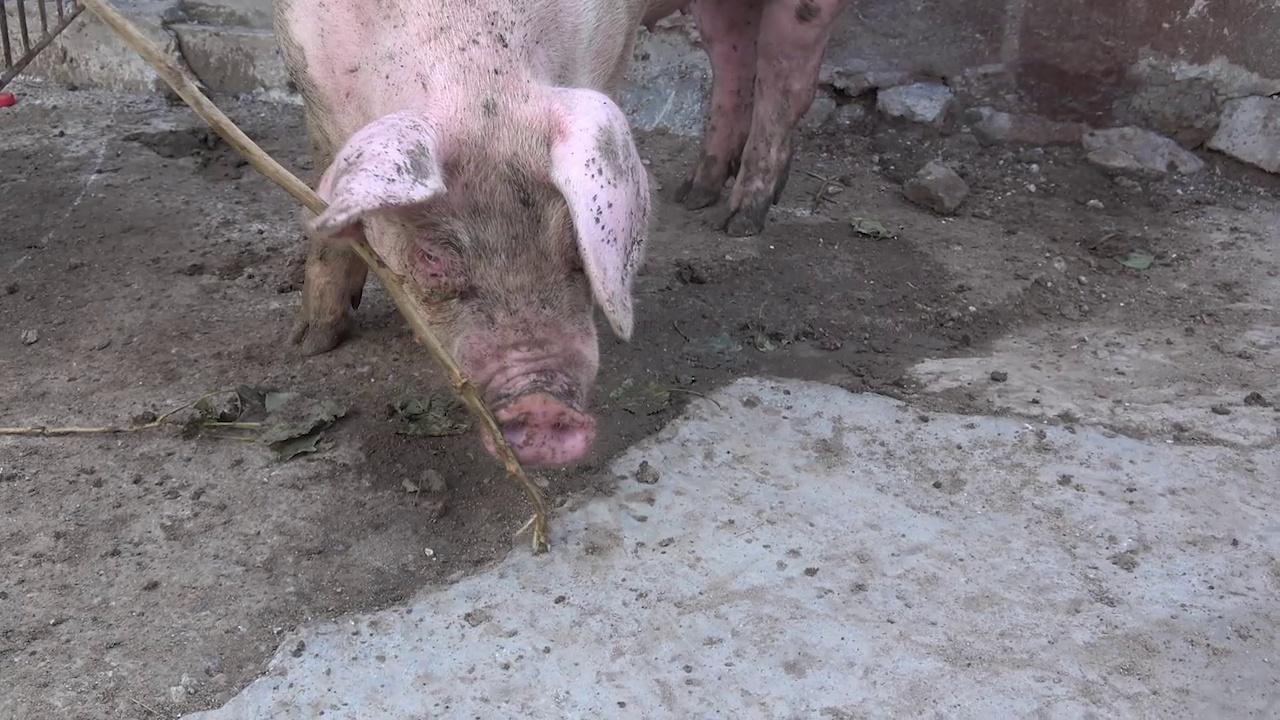Face: (307, 80, 664, 482)
